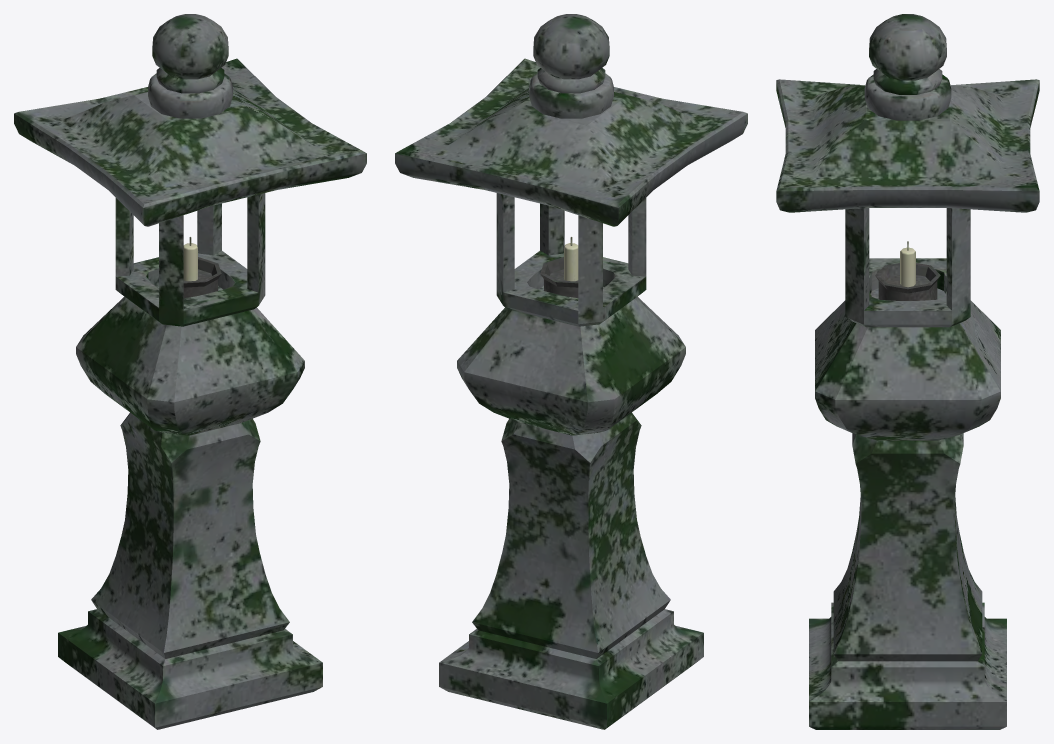
File: lantern.glb
The picture shows the model from 3 angles, left to right: view 1: azimuth 30°, elevation 25°; view 2: azimuth 150°, elevation 25°; view 3: azimuth 270°, elevation 25°; orthographic projection.
Parts seen in each view (by area): view 1: lantern_initialShadingGroup; view 2: lantern_initialShadingGroup; view 3: lantern_initialShadingGroup.
Boxes of the visible parts, x1,y1,x2,y2 form: lantern_initialShadingGroup: [14, 14, 366, 729]; lantern_initialShadingGroup: [395, 14, 747, 729]; lantern_initialShadingGroup: [776, 14, 1039, 729].
Size of the model in its own units: 0.6217 by 1.75 by 0.6217.
1 material, 1 textured.
